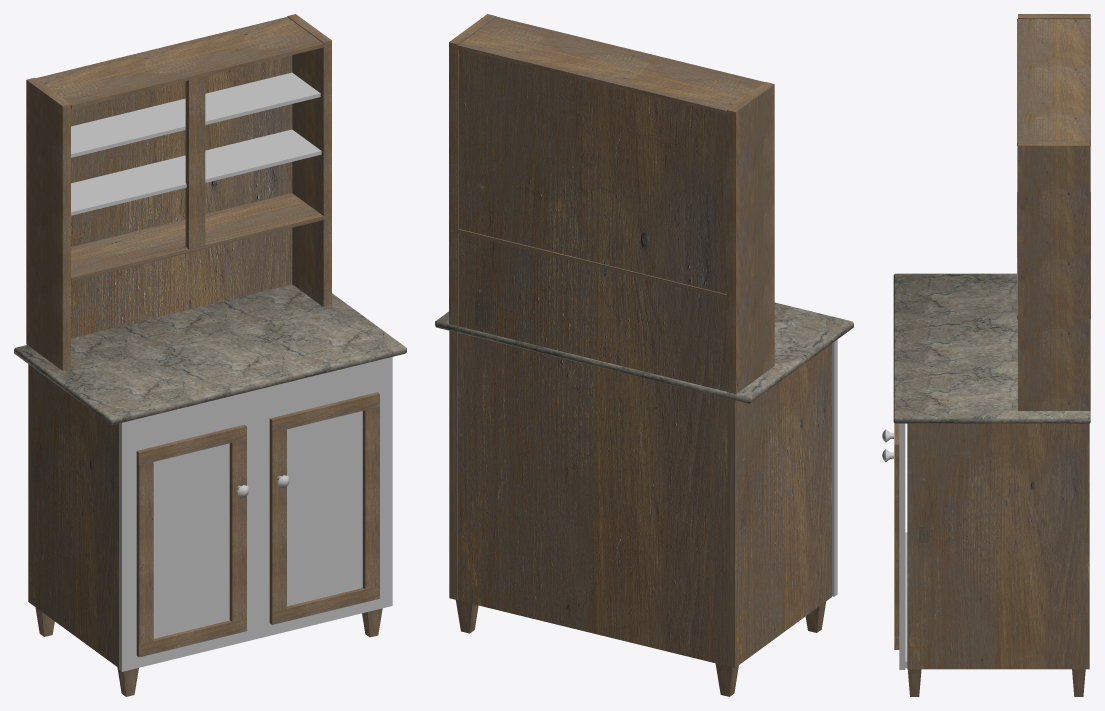
Rendered from CupBoard_01_TypeB.DAE.
The picture shows the model from 3 angles, left to right: view 1: azimuth 30°, elevation 25°; view 2: azimuth 150°, elevation 25°; view 3: azimuth 270°, elevation 25°; orthographic projection. The views are drawn at different scales.
Parts seen in each view (by area): view 1: CupBase300, CupDoor_BL300, CupDoor_BR300; view 2: CupBase300; view 3: CupBase300, CupDoor_BR300.
Part boxes in pixels (x1,y1,x2,y2): CupBase300: (14, 14, 406, 696); CupDoor_BL300: (136, 424, 249, 657); CupDoor_BR300: (269, 392, 379, 624); CupBase300: (435, 14, 853, 696); CupBase300: (893, 14, 1090, 696); CupDoor_BR300: (882, 423, 899, 649).
Size of what is drawn, in the model's own units: 54.62 by 33.27 by 97.55.
